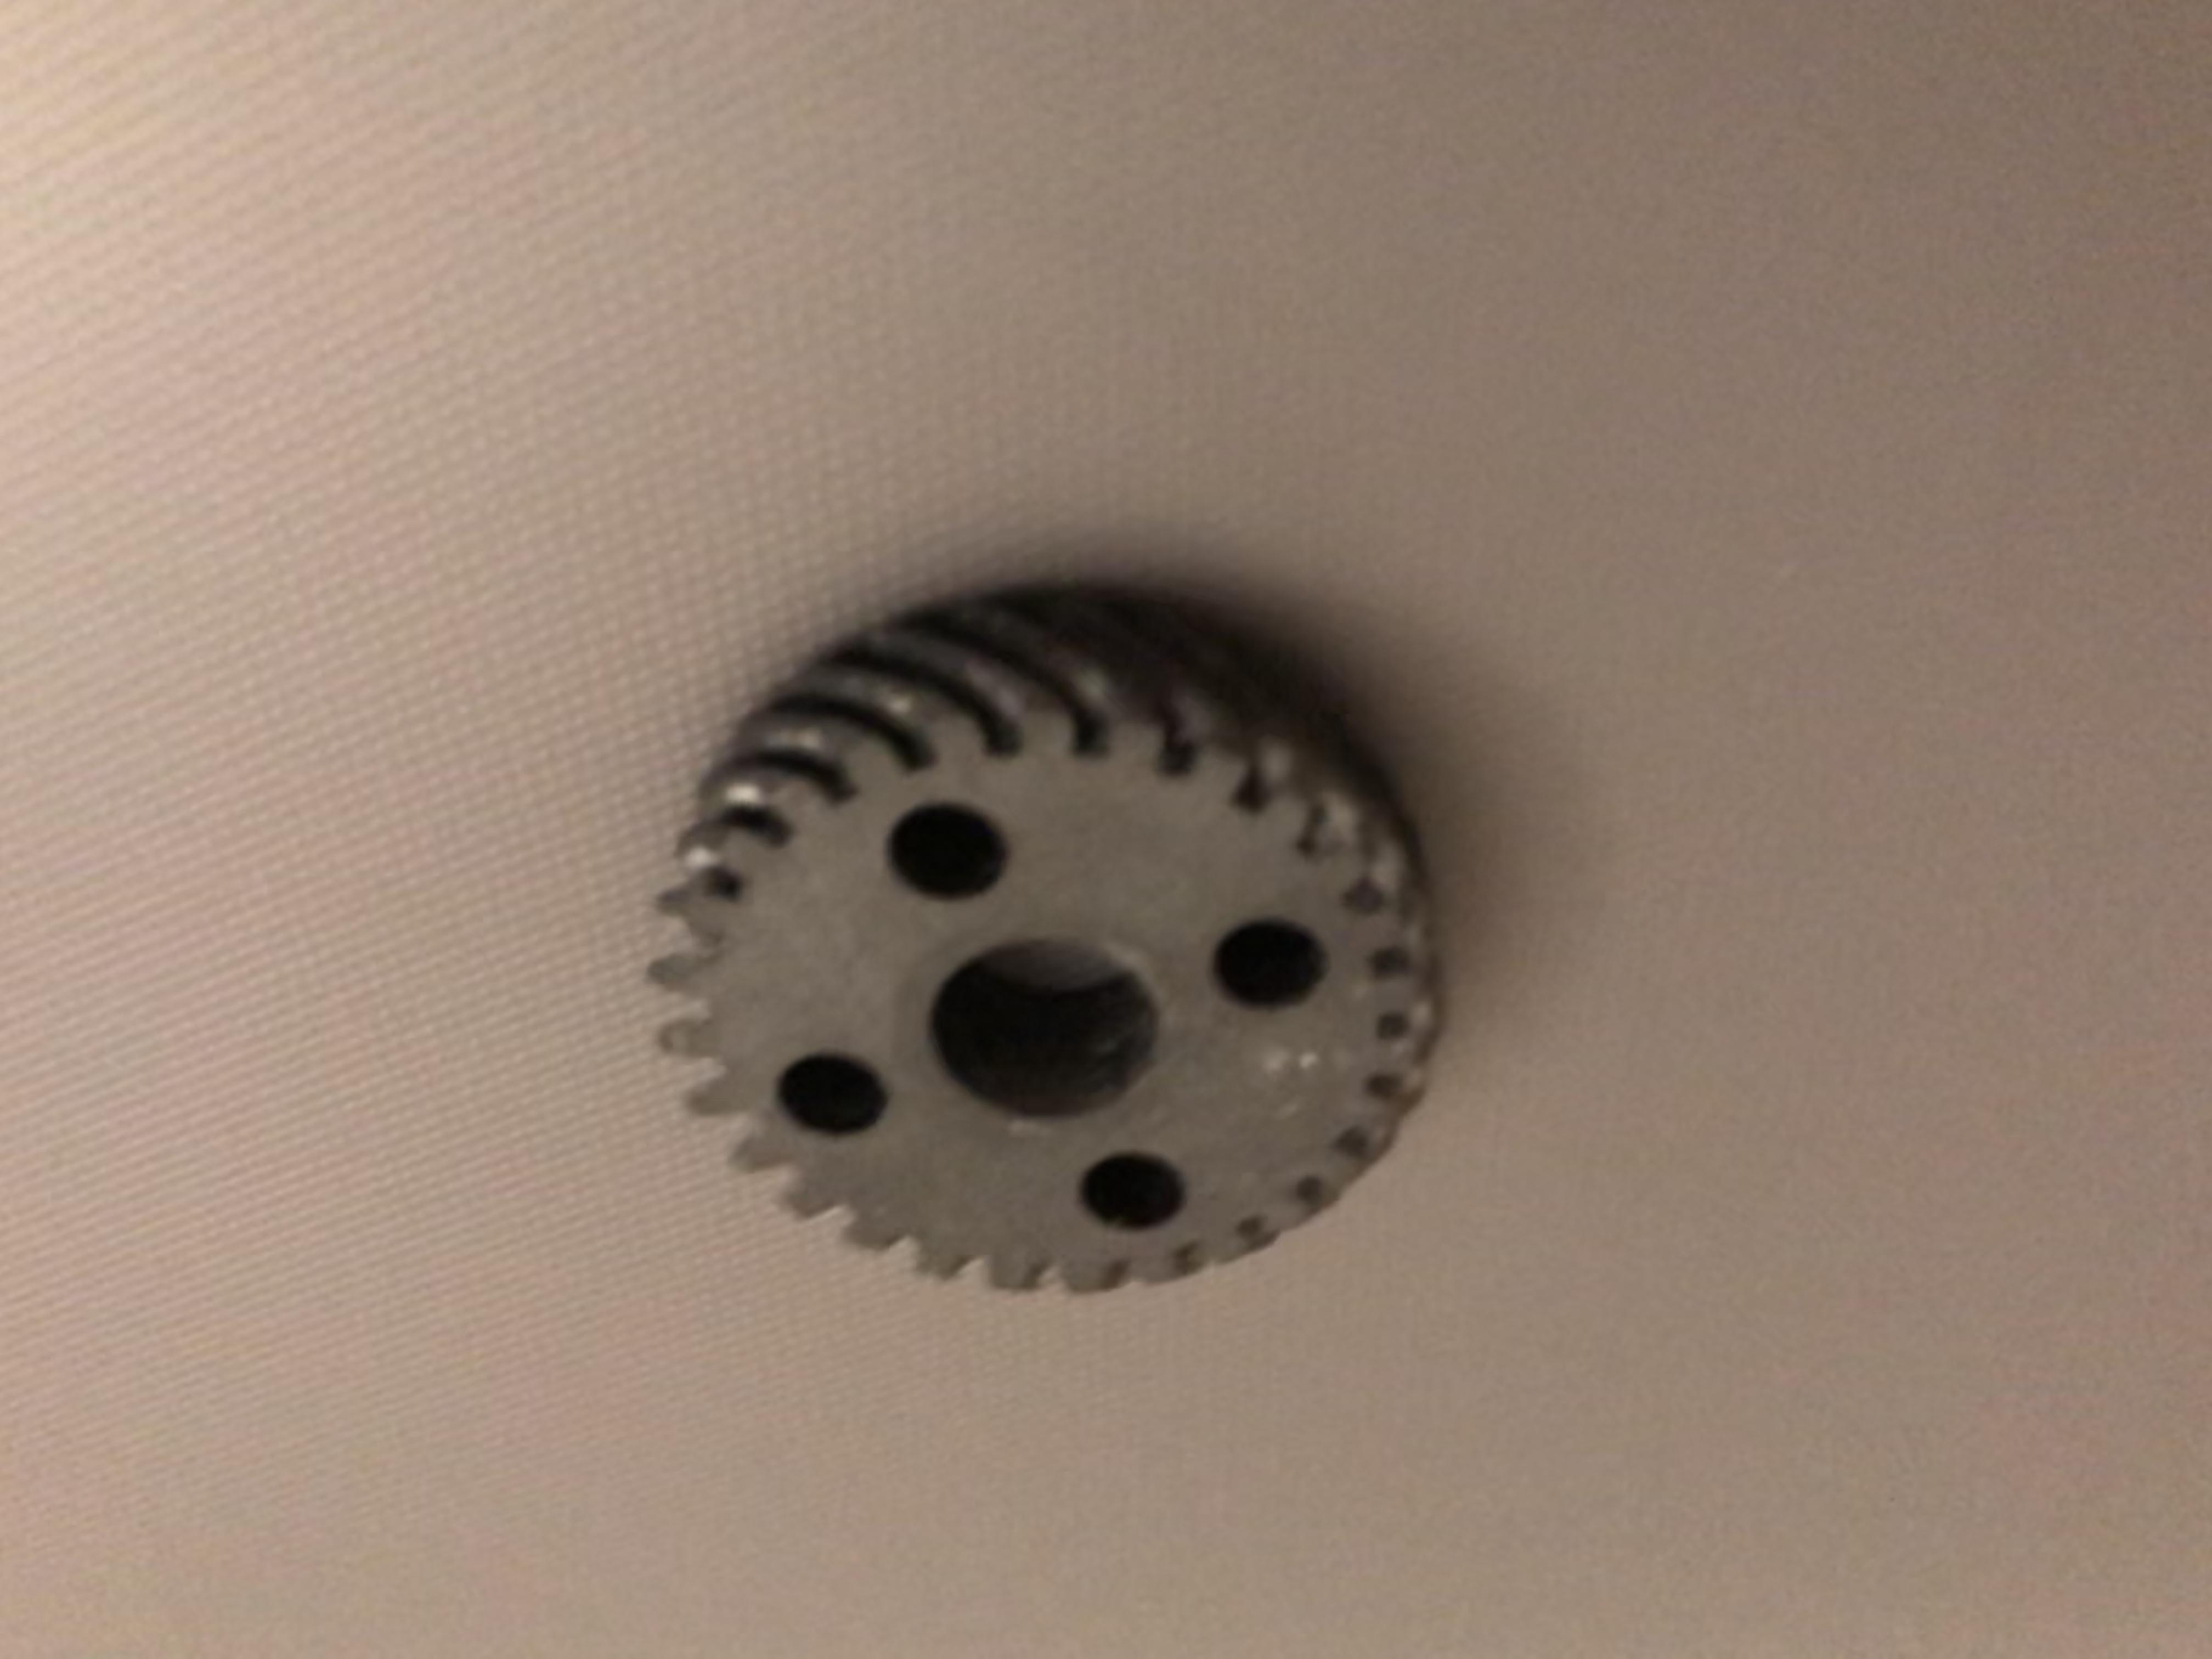Wheel: (631, 586, 1458, 1307)
